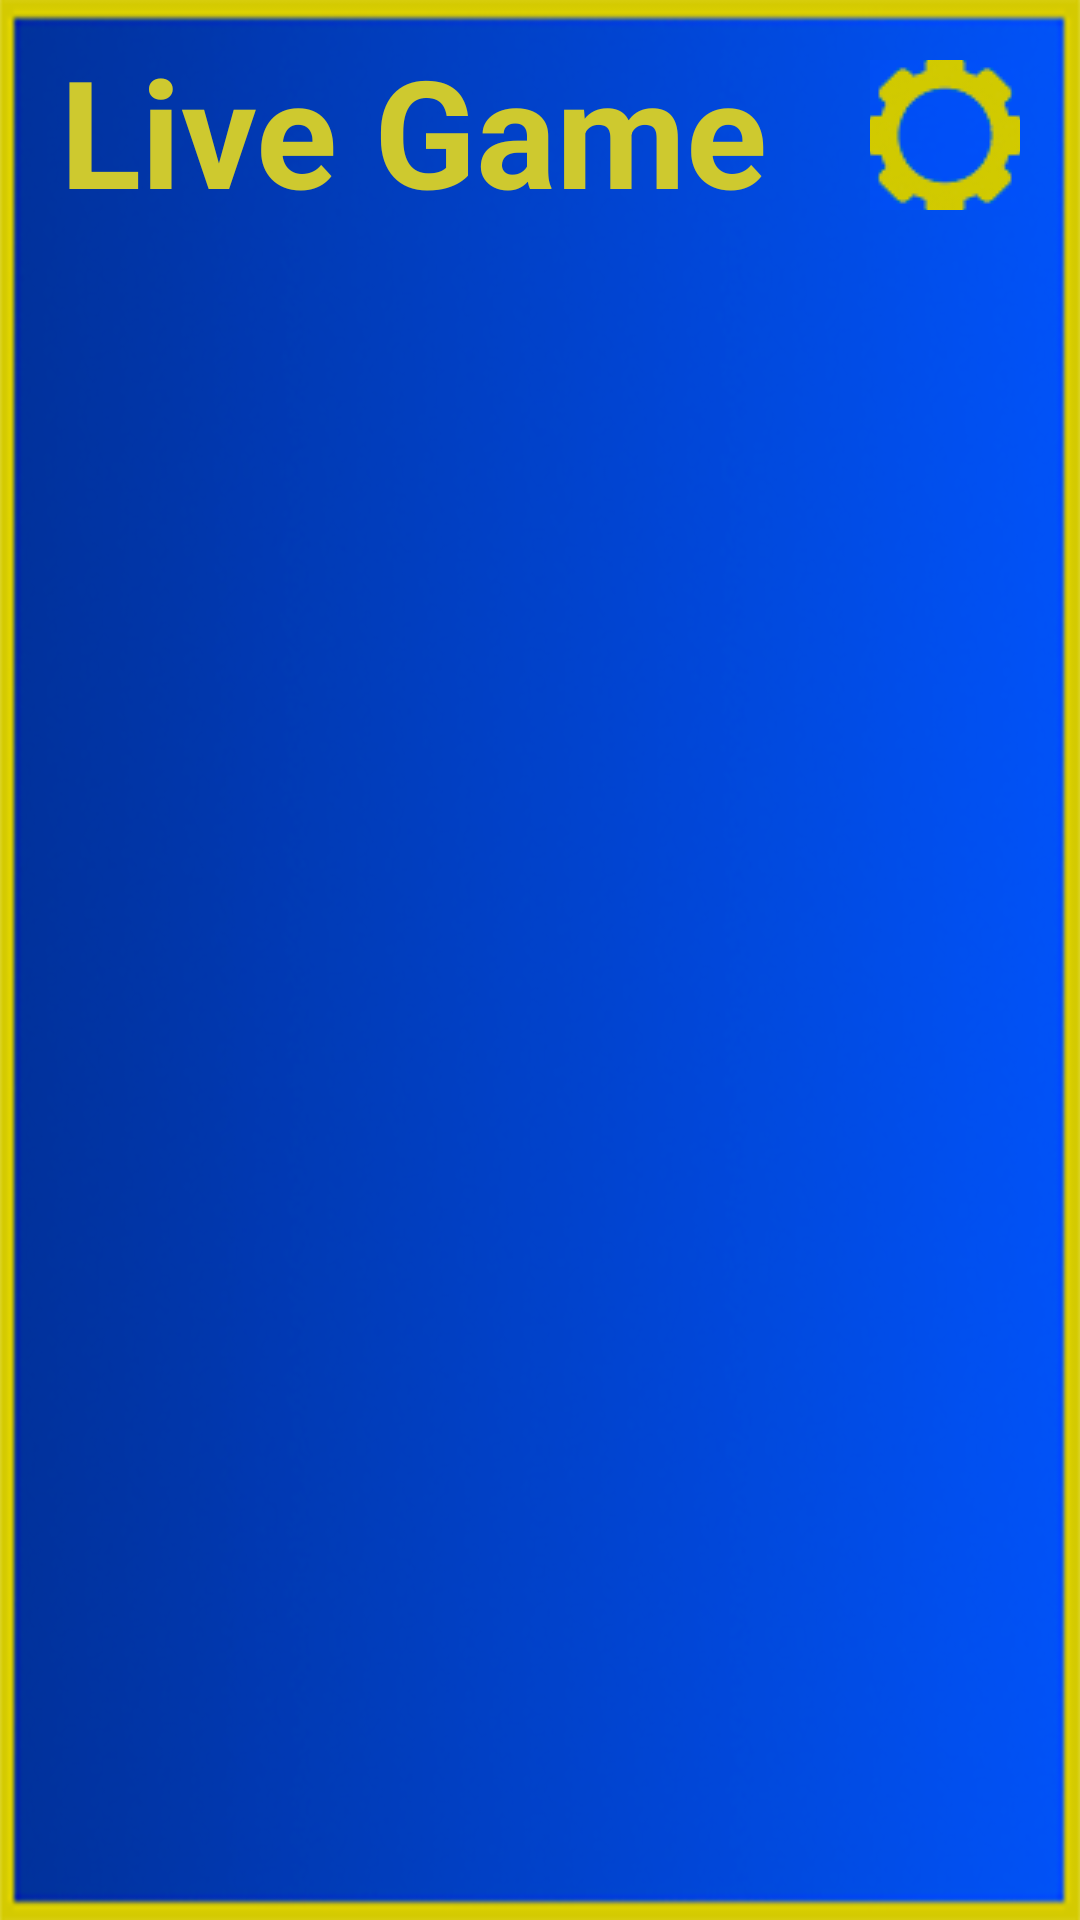

Icon click points for this 1080px×1920px phone screenshot, format point (x, y):
Button to access to settings menu: point (945, 135)
